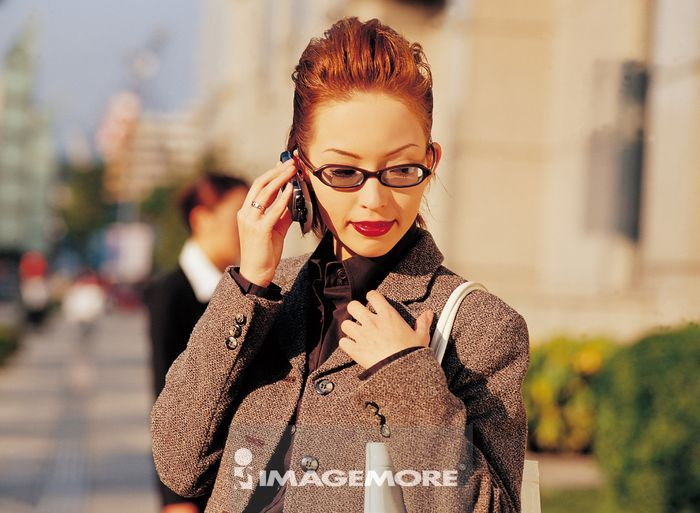phone: (279, 151, 314, 236)
talk: (234, 136, 424, 292)
